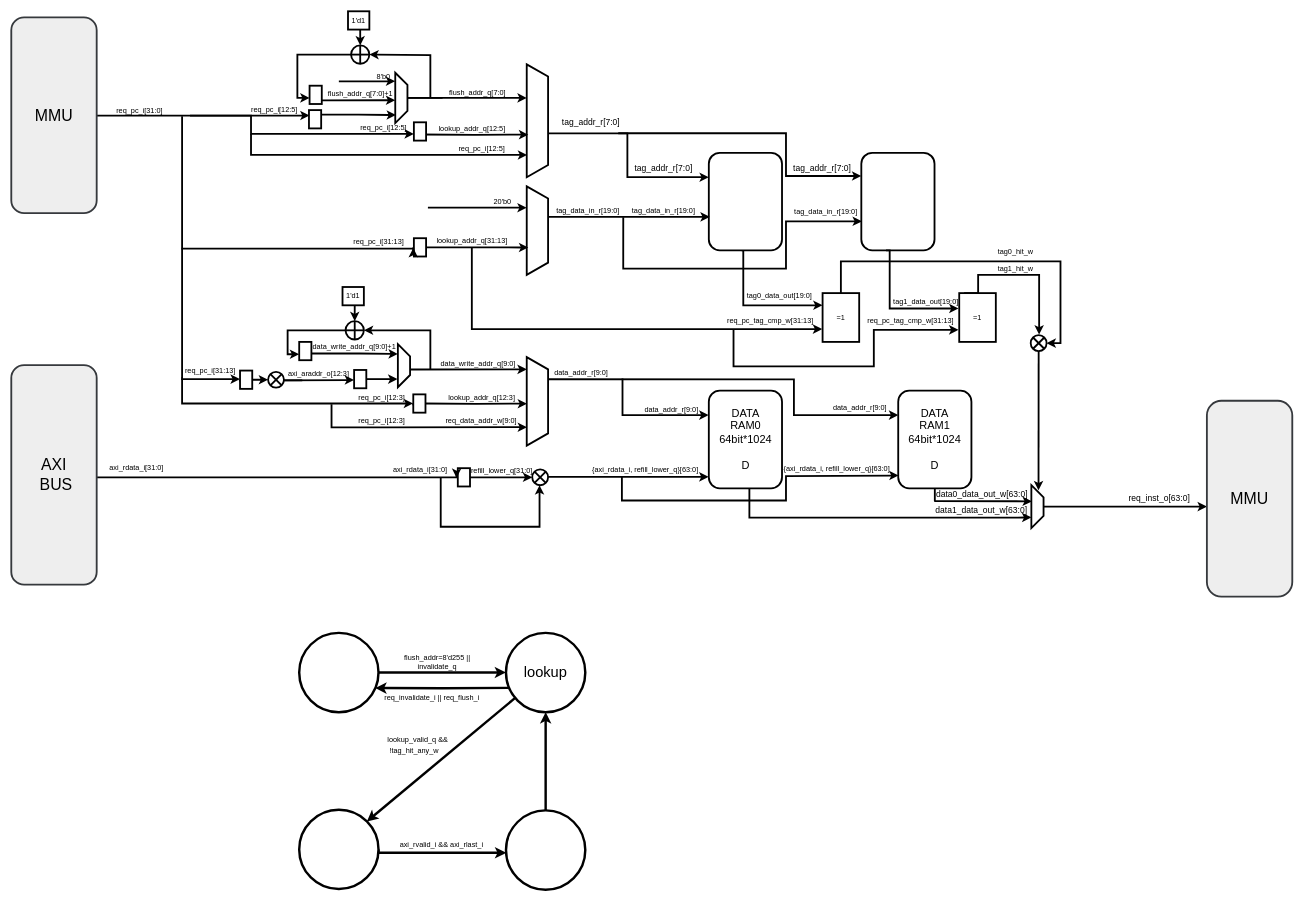
This 1304x902 diagram has some shape labels left out. The centre of each missing label's shape, as x and y in pixels:
"Flush" belongs at (338,672).
"refill" belongs at (338,849).
"relookup" belongs at (545,850).
"TAG RAM0 20bit*256 D" belongs at (745,201).
"TAG RAM1 20bit*256 D" belongs at (897,201).
